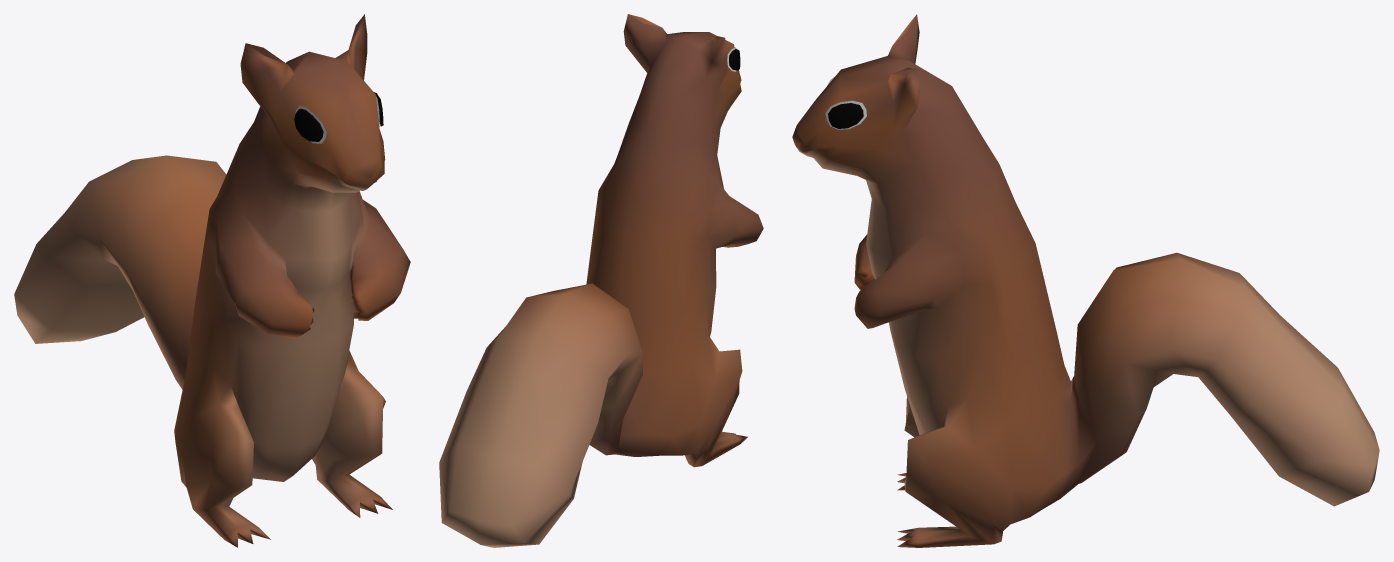
File: Squirrel.fbx
The picture shows the model from 3 angles, left to right: view 1: azimuth 30°, elevation 25°; view 2: azimuth 150°, elevation 25°; view 3: azimuth 270°, elevation 25°; orthographic projection. The views are drawn at different scales.
Parts seen in each view (by area): view 1: alt592; view 2: alt592; view 3: alt592.
Part boxes in pixels (x1,y1,x2,y2): alt592: [14, 14, 410, 547]; alt592: [439, 14, 763, 547]; alt592: [792, 14, 1379, 547].
Bounding box in the file's own units: 10.45 × 27.82 × 31.56.
